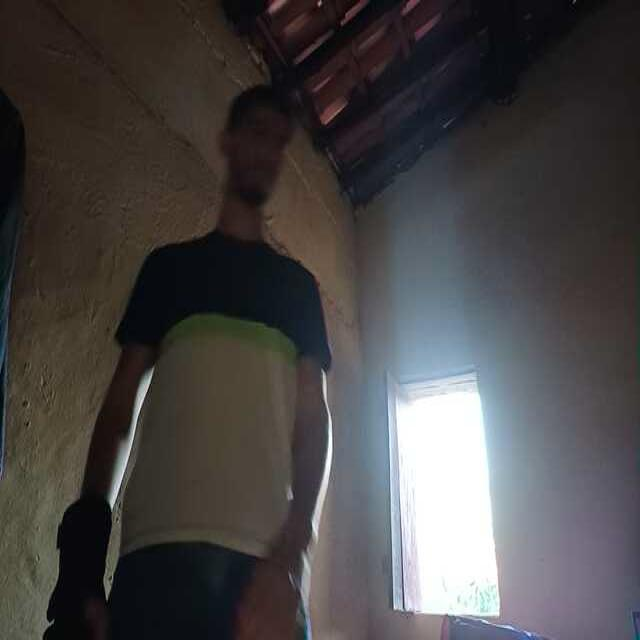colete: (442, 614, 552, 640)
pessoa: (94, 93, 319, 640)
